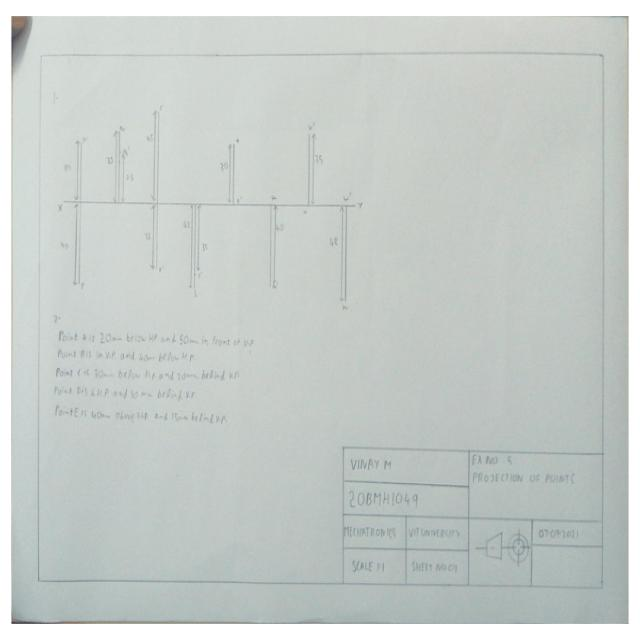Drawings: (54, 95, 365, 317)
